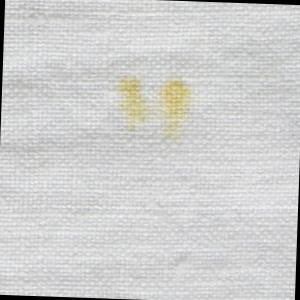Stain: (116, 64, 193, 155)
